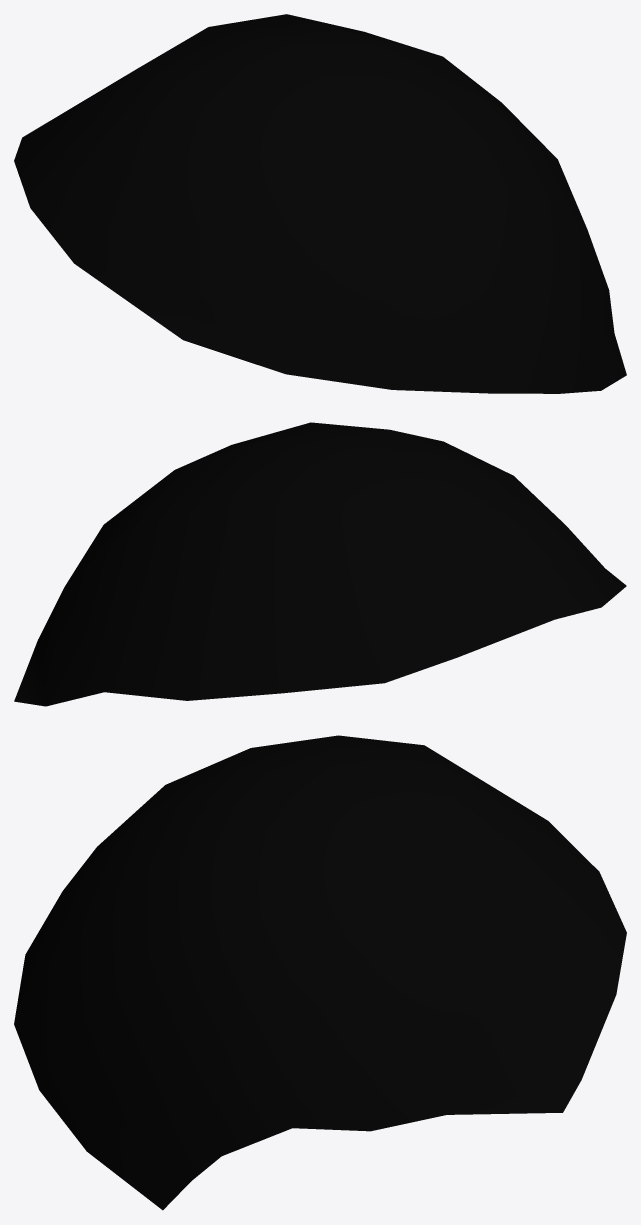
File: bubble_solid_sea1.glb
The picture shows the model from 3 angles, top to bottom: view 1: azimuth 30°, elevation 25°; view 2: azimuth 150°, elevation 25°; view 3: azimuth 270°, elevation 25°; orthographic projection. The views are drawn at different scales.
Visible parts, largest first — view 1: bubble_solid_texture.png__; view 2: bubble_solid_texture.png__; view 3: bubble_solid_texture.png__.
Boxes of the visible parts, x1,y1,x2,y2 form: bubble_solid_texture.png__: [14, 14, 626, 393]; bubble_solid_texture.png__: [14, 422, 626, 706]; bubble_solid_texture.png__: [14, 735, 626, 1210].
Bounding box in the file's own units: 12.86 × 7.66 × 13.21.
1 material, 1 textured.
